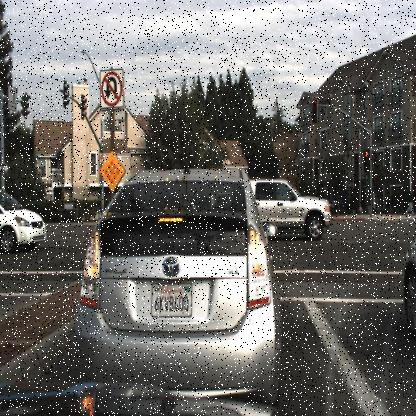car: (60, 156, 282, 408), (241, 163, 337, 251), (0, 188, 47, 252), (399, 225, 415, 342), (316, 194, 351, 219)
trafficLight-Red: (360, 144, 372, 174), (310, 93, 320, 125)
